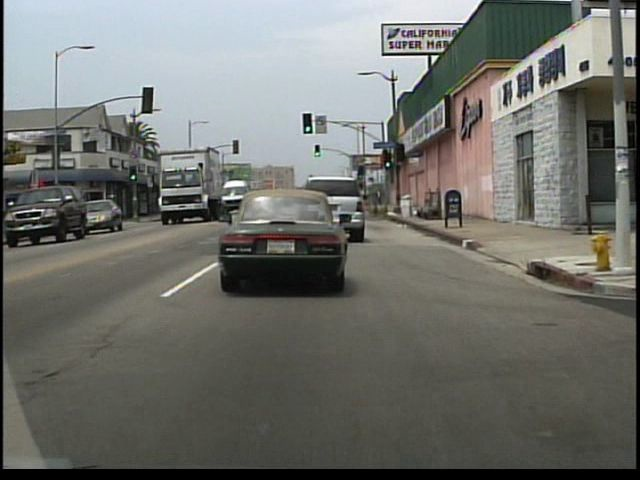person: (63, 201, 75, 229), (376, 187, 385, 207)
